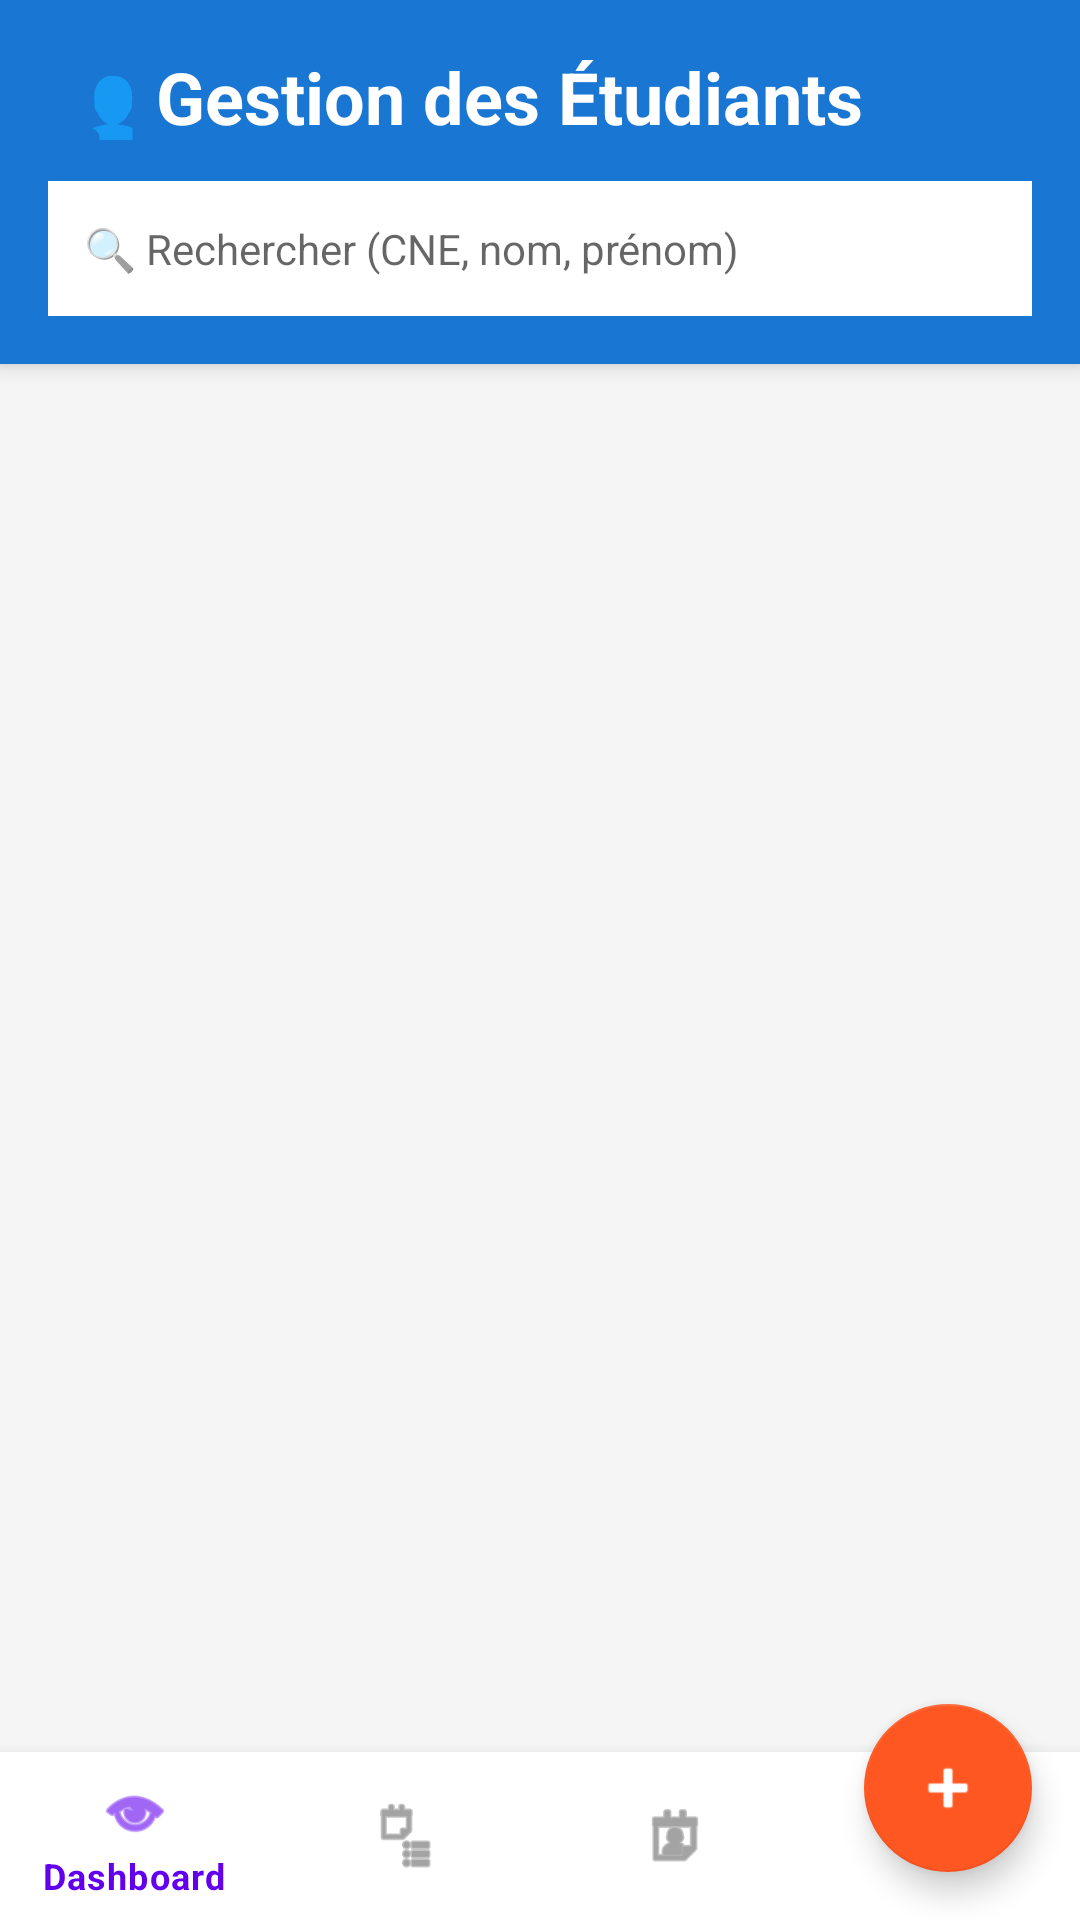

Screen size 1080x1920. Icon name, then its center in pixels as (x=x, y=y):
Ajouter un étudiant: (x=948, y=1788)
